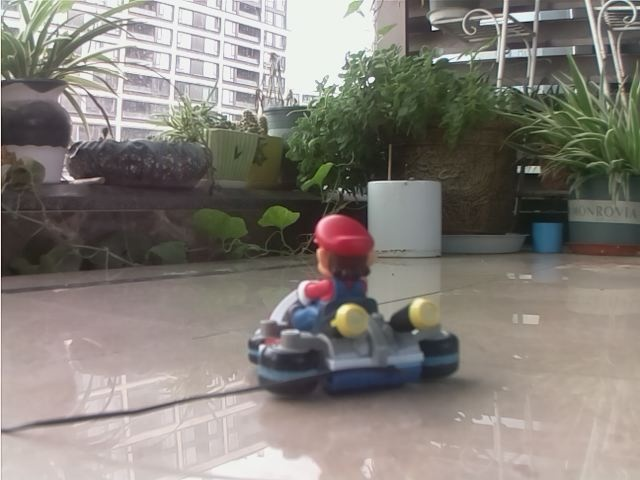mario: (234, 208, 470, 403)
